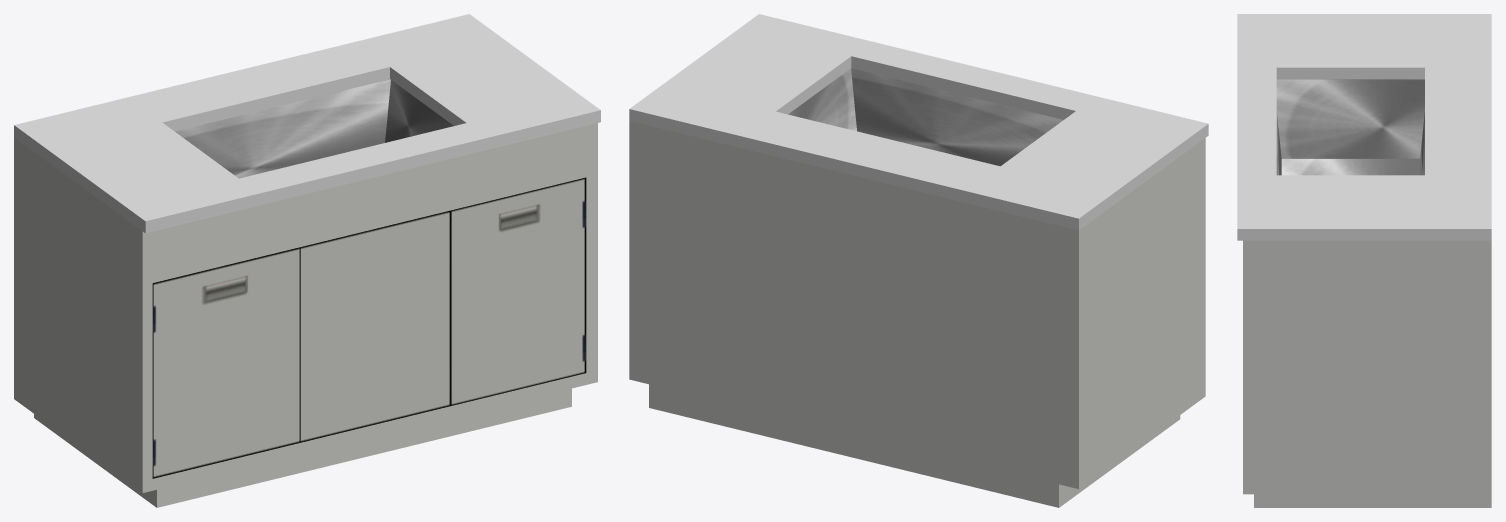
The model's file is Sink Cabinet.obj.
3 views of the same model, side by side, from view 1: azimuth 30°, elevation 25°; view 2: azimuth 150°, elevation 25°; view 3: azimuth 270°, elevation 25° (orthographic). The views are drawn at different scales.
Parts seen in each view (by area): view 1: object1, object2, object4, object3, object5; view 2: object1, object4, object5; view 3: object1, object4, object5.
Part boxes in pixels (bbox=[...]): object1: bbox=[14, 123, 597, 507]; object2: bbox=[152, 177, 586, 478]; object4: bbox=[14, 14, 600, 233]; object3: bbox=[300, 211, 449, 442]; object5: bbox=[175, 79, 453, 178]; object1: bbox=[629, 121, 1205, 507]; object4: bbox=[629, 14, 1208, 230]; object5: bbox=[788, 68, 1063, 166]; object1: bbox=[1243, 240, 1491, 507]; object4: bbox=[1237, 14, 1491, 240]; object5: bbox=[1276, 79, 1424, 175].
Size of the model in its own units: 60 by 37.51 by 30.
Materials: 5 (4 with a texture image).
